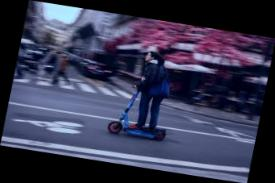multiple: (105, 43, 185, 146)
